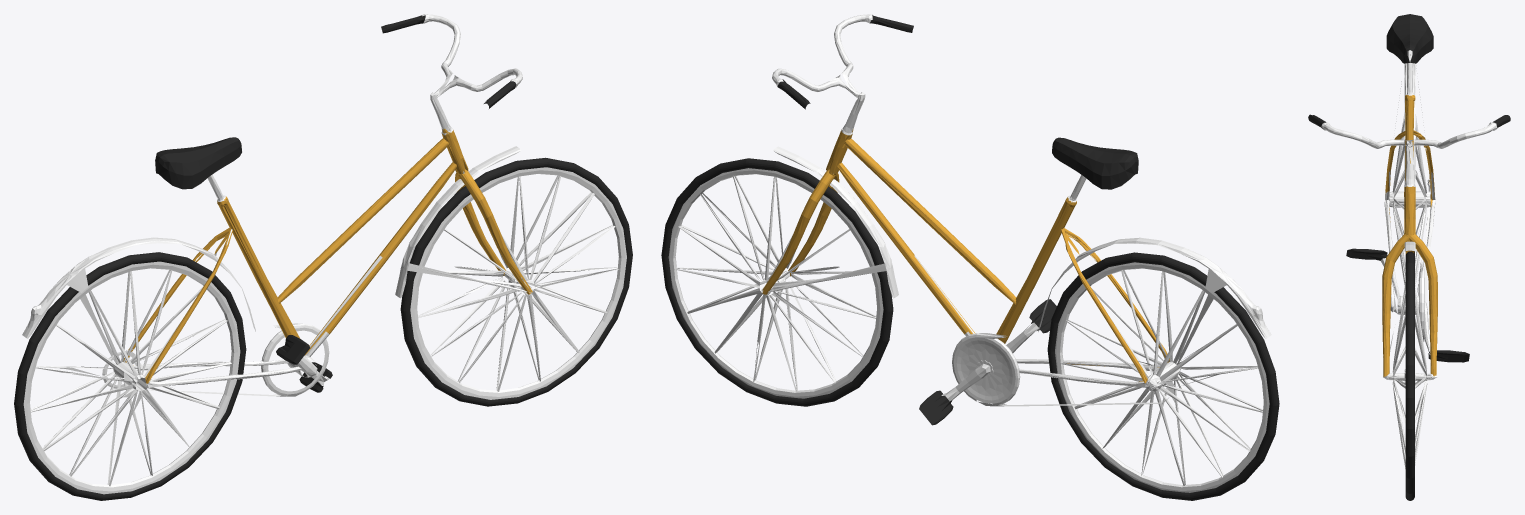
3 renders of one model, left to right at view 1: azimuth 30°, elevation 25°; view 2: azimuth 150°, elevation 25°; view 3: azimuth 270°, elevation 25°, orthographic. The views are drawn at different scales.
Parts seen in each view (by area): view 1: Subdivision_Surface.2, Tire, Tire_1; view 2: Subdivision_Surface.2, Tire, Tire_1; view 3: Subdivision_Surface.2, Tire_1.
Part boxes in pixels (<box>): Subdivision_Surface.2: <box>22,14,626,494</box>; Tire: <box>14,252,246,500</box>; Tire_1: <box>400,157,632,406</box>; Subdivision_Surface.2: <box>668,14,1271,492</box>; Tire: <box>1047,252,1279,500</box>; Tire_1: <box>661,158,893,406</box>; Subdivision_Surface.2: <box>1308,14,1510,468</box>; Tire_1: <box>1405,251,1414,500</box>.
Bounding box in the file's own units: 355 × 202 × 107.
